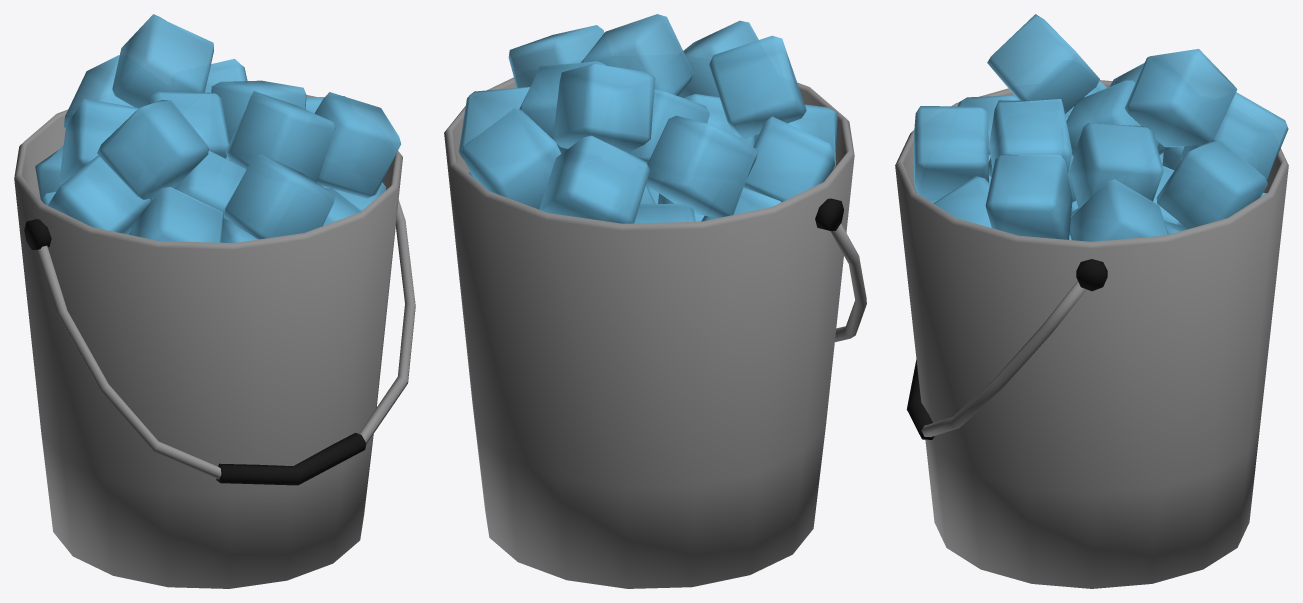
Rendered from ice bucket with ice.glb.
3 views of the same model, side by side, from view 1: azimuth 30°, elevation 25°; view 2: azimuth 150°, elevation 25°; view 3: azimuth 270°, elevation 25° (orthographic). The views are drawn at different scales.
Parts seen in each view (by area): view 1: Bucket.001, IceCube1.037, IceCube1.060, IceCube1.087, IceCube1.048, IceCube1.082, IceCube1.031, IceCube1.193, IceCube1.091, IceCube1.094, IceCube1.194, IceCube1.095 (+5 smaller); view 2: Bucket.001, IceCube1.091, IceCube1.060, IceCube1.092, IceCube1.037, IceCube1.080, IceCube1.031, IceCube1.082, IceCube1.048, IceCube1.087, IceCube1.195, IceCube1.095 (+5 smaller); view 3: Bucket.001, IceCube1.060, IceCube1.048, IceCube1.087, IceCube1.080, IceCube1.037, IceCube1.095, IceCube1.082, IceCube1.195, IceCube1.092, IceCube1.094, IceCube1.140 (+1 smaller).
Part boxes in pixels (box(x1,y1,x2,y2)): Bucket.001: box(14, 95, 415, 588); IceCube1.037: box(97, 100, 208, 199); IceCube1.060: box(112, 14, 213, 107); IceCube1.087: box(224, 154, 335, 239); IceCube1.048: box(314, 92, 400, 198); IceCube1.082: box(225, 91, 335, 182); IceCube1.031: box(48, 155, 150, 234); IceCube1.193: box(130, 186, 222, 242); IceCube1.091: box(59, 98, 138, 184); IceCube1.094: box(148, 90, 229, 158); IceCube1.194: box(174, 150, 246, 217); IceCube1.095: box(211, 80, 306, 143); Bucket.001: box(444, 77, 866, 588); IceCube1.091: box(646, 115, 758, 218); IceCube1.060: box(553, 63, 655, 152); IceCube1.092: box(539, 135, 650, 223); IceCube1.037: box(709, 35, 806, 139); IceCube1.080: box(461, 107, 561, 209); IceCube1.031: box(744, 116, 834, 202); IceCube1.082: box(581, 14, 693, 95); IceCube1.048: box(508, 25, 604, 87); IceCube1.087: box(678, 20, 758, 97); IceCube1.195: box(458, 87, 529, 159); IceCube1.095: box(519, 61, 605, 153); Bucket.001: box(895, 80, 1288, 588); IceCube1.060: box(1124, 49, 1237, 147); IceCube1.048: box(985, 154, 1072, 239); IceCube1.087: box(913, 106, 988, 200); IceCube1.080: box(1156, 140, 1267, 228); IceCube1.037: box(987, 14, 1099, 113); IceCube1.095: box(1069, 123, 1163, 209); IceCube1.082: box(989, 99, 1072, 172); IceCube1.195: box(1069, 179, 1168, 241); IceCube1.092: box(1180, 92, 1288, 179); IceCube1.094: box(1066, 79, 1159, 157); IceCube1.140: box(933, 176, 991, 227).
Bounding box in the file's own units: 4.58 × 5.83 × 4.4.
